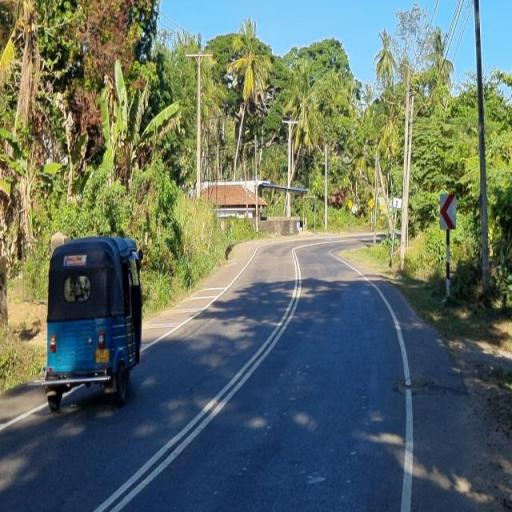double_white_line: (94, 243, 304, 512)
